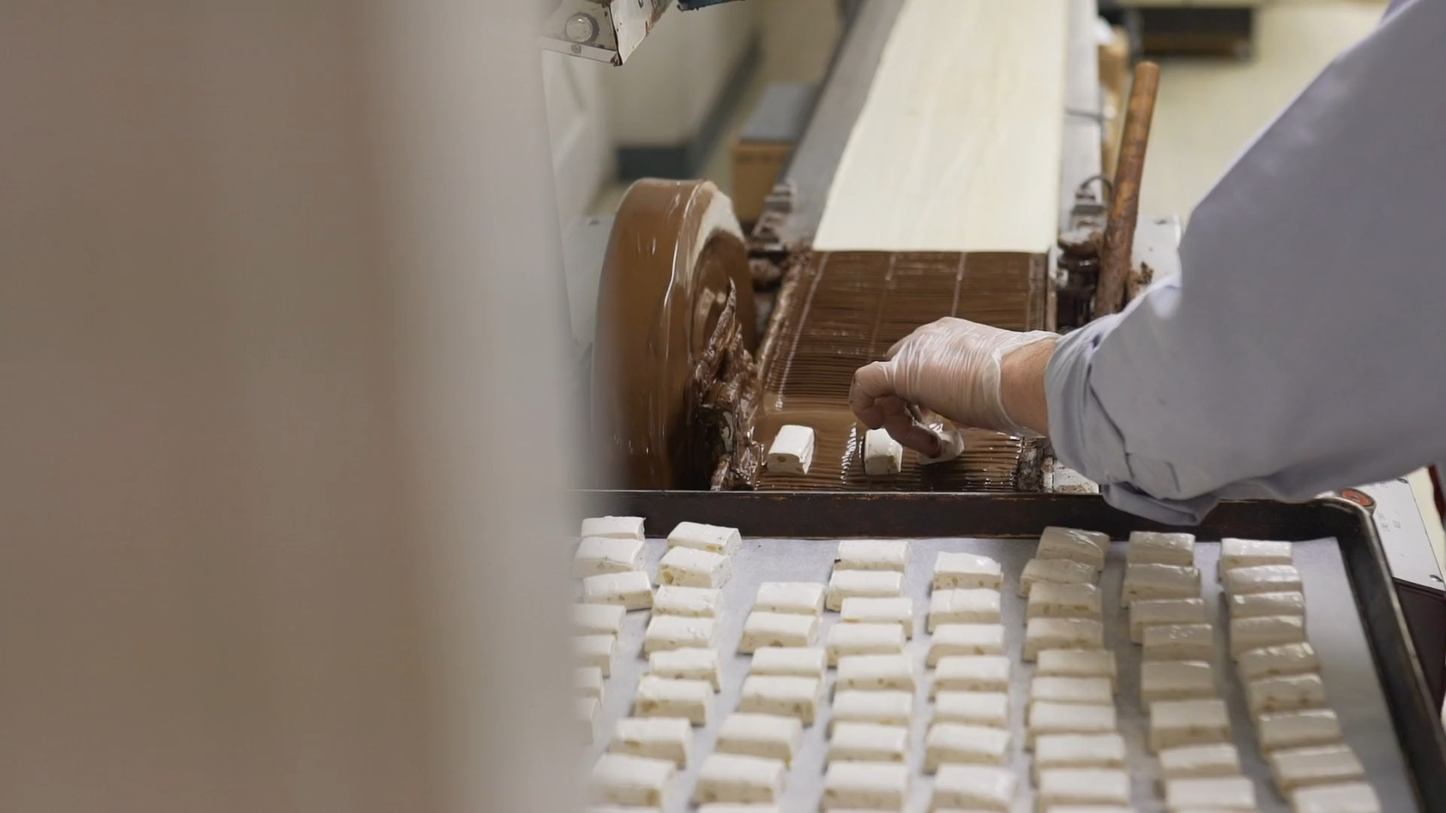gloves: (834, 298, 1047, 461)
